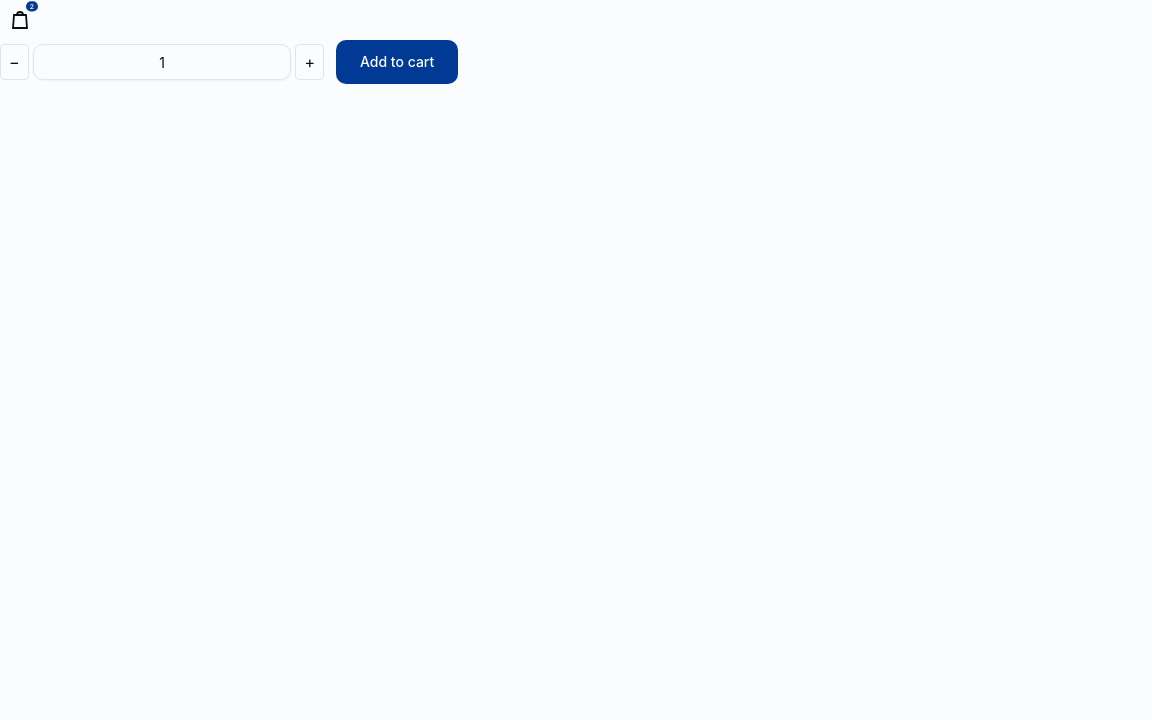
Test: cart UI › flags out-of-stock lines and explains add-to-cart errors
Click the button "Add to cart".
click(397, 62)  # box [336,40,458,84]
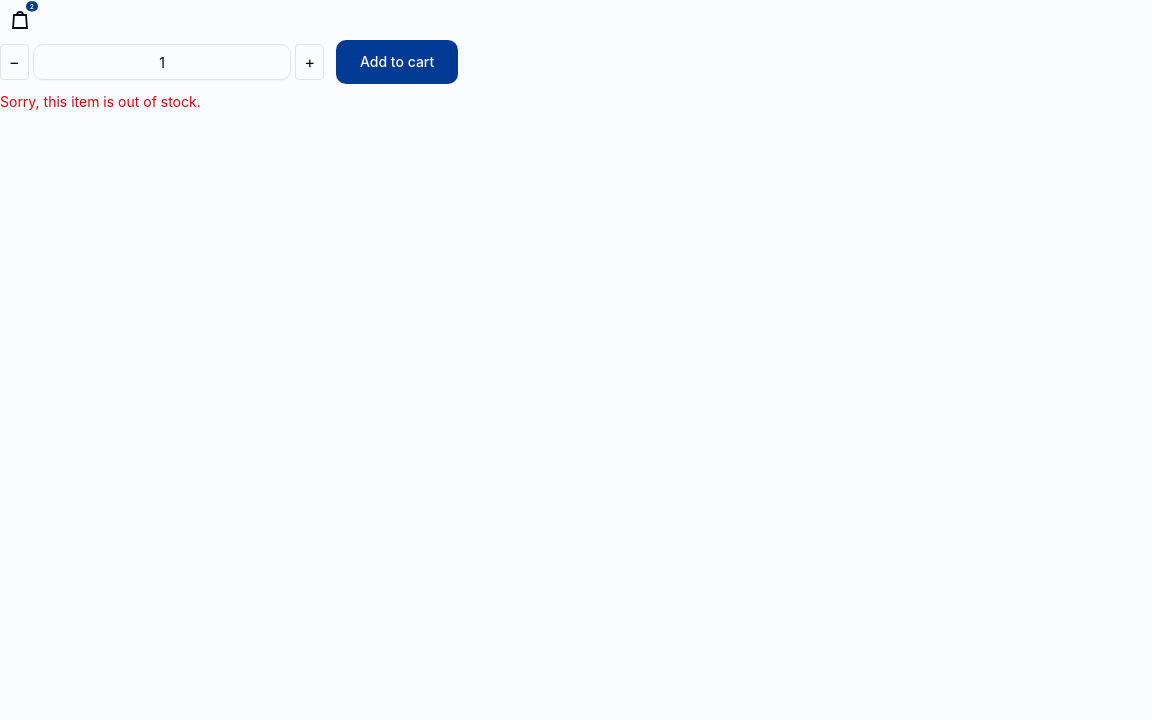
Expected: the text "Sorry, this item is out of stock." is shown, [0,93,201,110]
Click the button named "Open cart (2 items)".
click(20, 20)  # box [0,0,40,40]
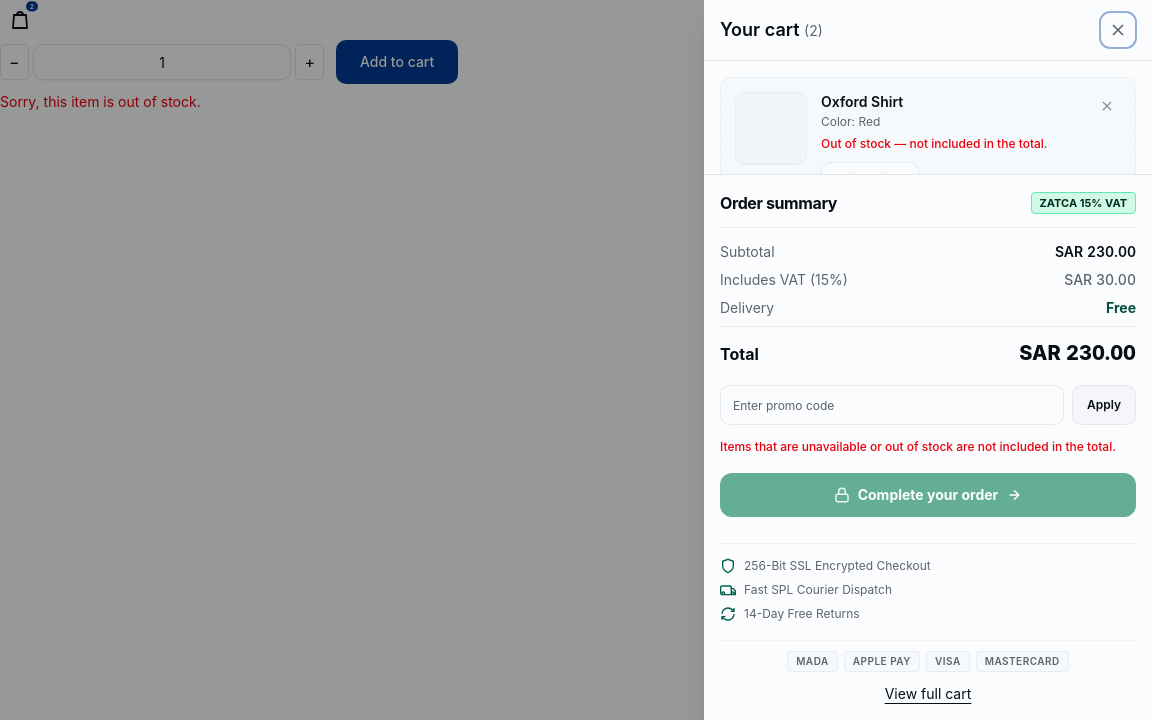
Expected: the text "Out of stock — not included in the total." is shown, [821,136,1048,151]
